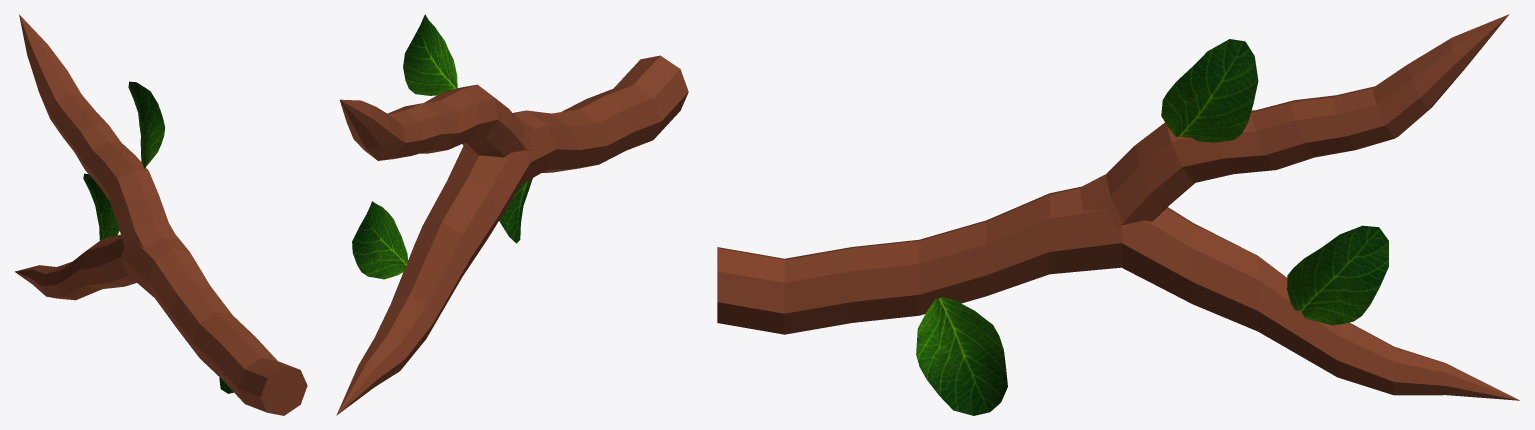
The model's file is branch_4.fbx.
The picture shows the model from 3 angles, left to right: view 1: azimuth 30°, elevation 25°; view 2: azimuth 150°, elevation 25°; view 3: azimuth 270°, elevation 25°; orthographic projection. The views are drawn at different scales.
Parts seen in each view (by area): view 1: Cylinder, Cylinder.001, Plane.002, Plane.001; view 2: Cylinder, Cylinder.001, Plane.001, Plane.002, Plane; view 3: Cylinder, Cylinder.001, Plane, Plane.001, Plane.002.
Boxes of the visible parts, x1,y1,x2,y2 form: Cylinder: [15, 234, 307, 415]; Cylinder.001: [19, 14, 177, 253]; Plane.002: [128, 81, 165, 168]; Plane.001: [83, 173, 119, 240]; Cylinder: [336, 55, 688, 415]; Cylinder.001: [339, 84, 533, 160]; Plane.001: [352, 201, 408, 279]; Plane.002: [403, 14, 457, 95]; Plane: [499, 178, 532, 243]; Cylinder: [717, 186, 1519, 400]; Cylinder.001: [1079, 14, 1509, 227]; Plane: [916, 297, 1007, 415]; Plane.001: [1287, 225, 1388, 325]; Plane.002: [1161, 39, 1258, 142].
Bounding box in the file's own units: 28.74 × 106 × 199.
